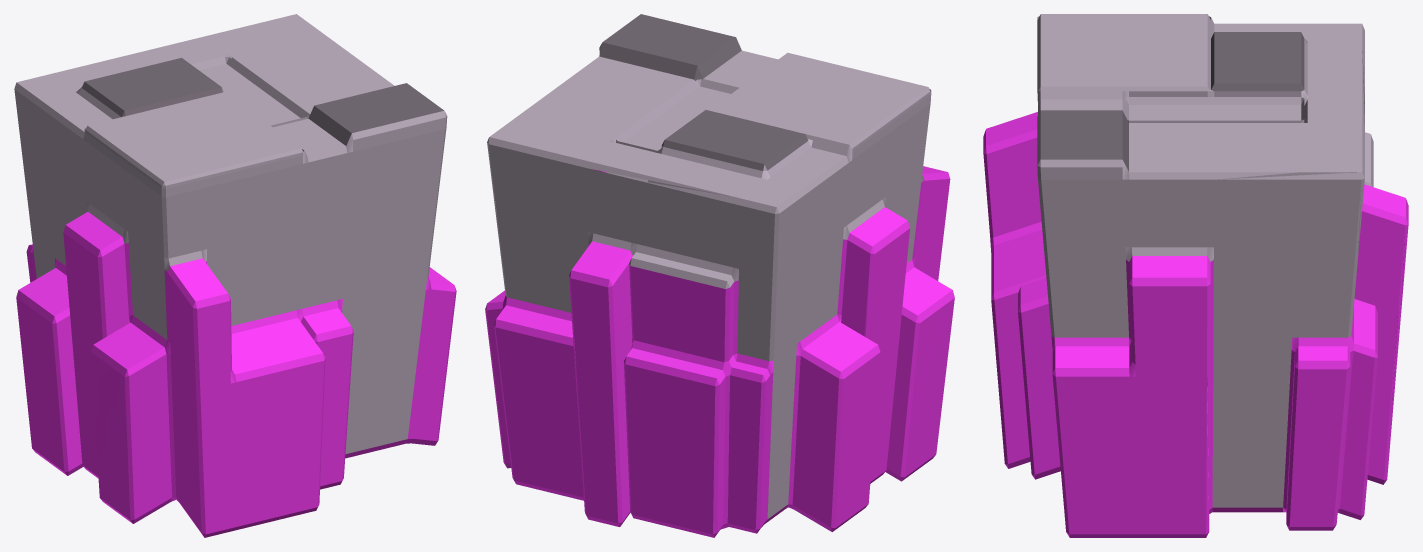
The model's file is block.gltf.
The picture shows the model from 3 angles, left to right: view 1: azimuth 30°, elevation 25°; view 2: azimuth 150°, elevation 25°; view 3: azimuth 270°, elevation 25°; orthographic projection. The views are drawn at different scales.
Parts seen in each view (by area): view 1: block; view 2: block; view 3: block.
Boxes of the visible parts, x1=… form: block: x1=14, y1=14, x2=456, y2=537; block: x1=485, y1=14, x2=954, y2=537; block: x1=983, y1=14, x2=1408, y2=537.
Bounding box in the file's own units: 2.37 × 2.37 × 2.37.
Materials: 1 (1 with a texture image).
